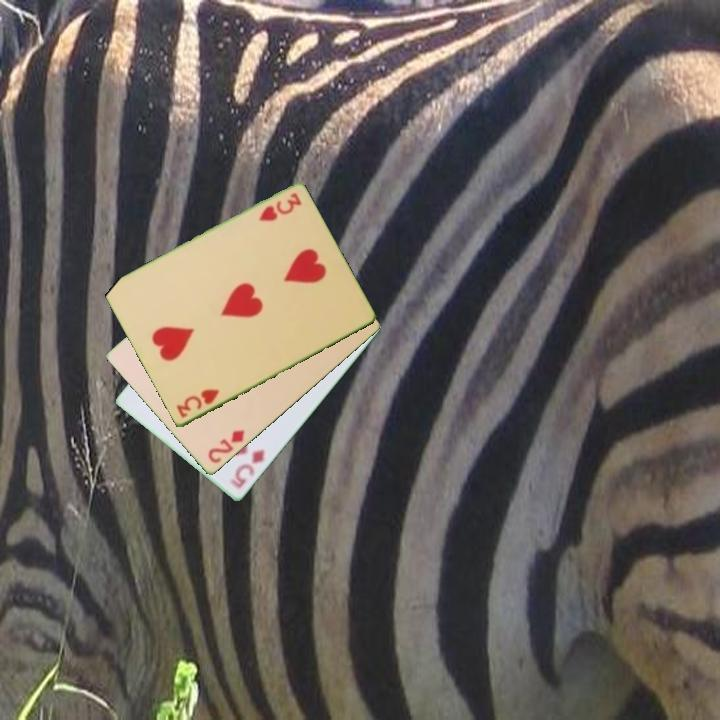2d: (204, 427, 247, 467)
3h: (255, 189, 305, 225), (172, 386, 222, 421)
5d: (227, 445, 267, 492)
